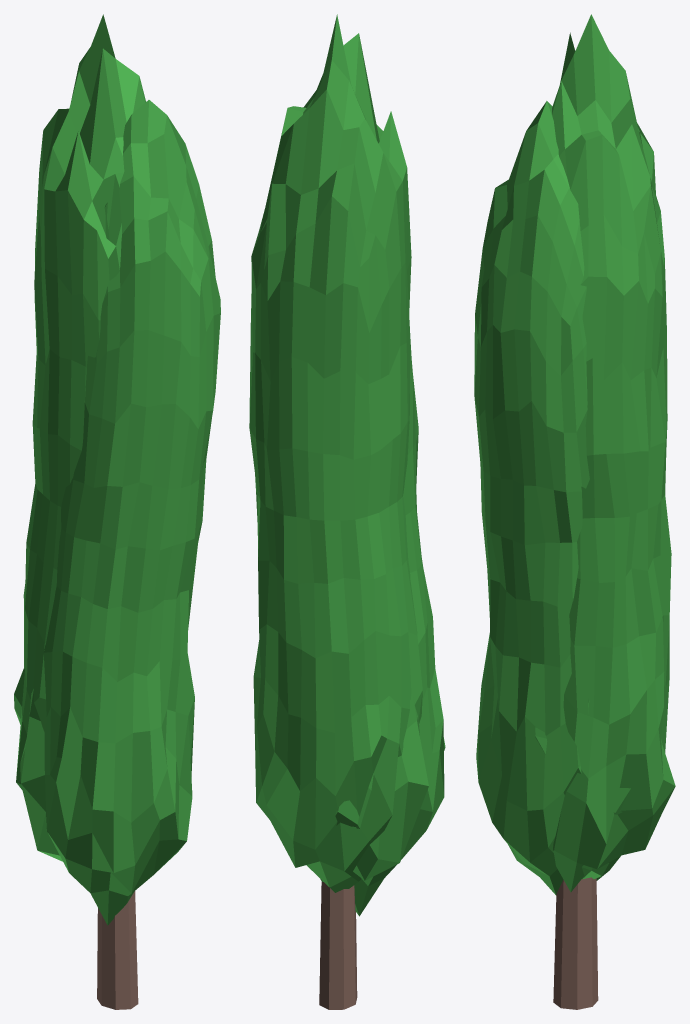
Rendered from Tree_060.glb.
3 views of the same model, side by side, from view 1: azimuth 30°, elevation 25°; view 2: azimuth 150°, elevation 25°; view 3: azimuth 270°, elevation 25° (orthographic).
Visible parts, largest first — view 1: Tree_060; view 2: Tree_060; view 3: Tree_060.
Boxes of the visible parts, x1,y1,x2,y2 form: Tree_060: [14, 14, 220, 1009]; Tree_060: [249, 14, 445, 1009]; Tree_060: [474, 14, 675, 1009].
Size of the model in its own units: 1.87 by 10.16 by 1.88.
Materials: 1 (1 with a texture image).
